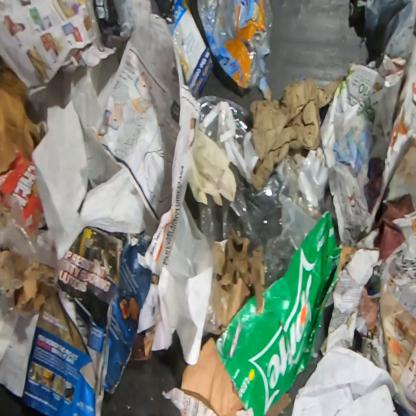cardboard: (215, 210, 344, 415), (319, 246, 383, 358), (180, 336, 245, 415), (0, 150, 47, 242), (265, 392, 295, 415)
soft_plastic: (221, 152, 327, 289), (197, 0, 274, 100), (85, 0, 154, 58), (196, 95, 254, 160), (0, 219, 57, 269), (172, 22, 200, 100), (198, 194, 216, 250), (203, 301, 217, 338)
